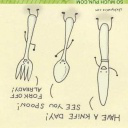Fork: (13, 5, 45, 86)
